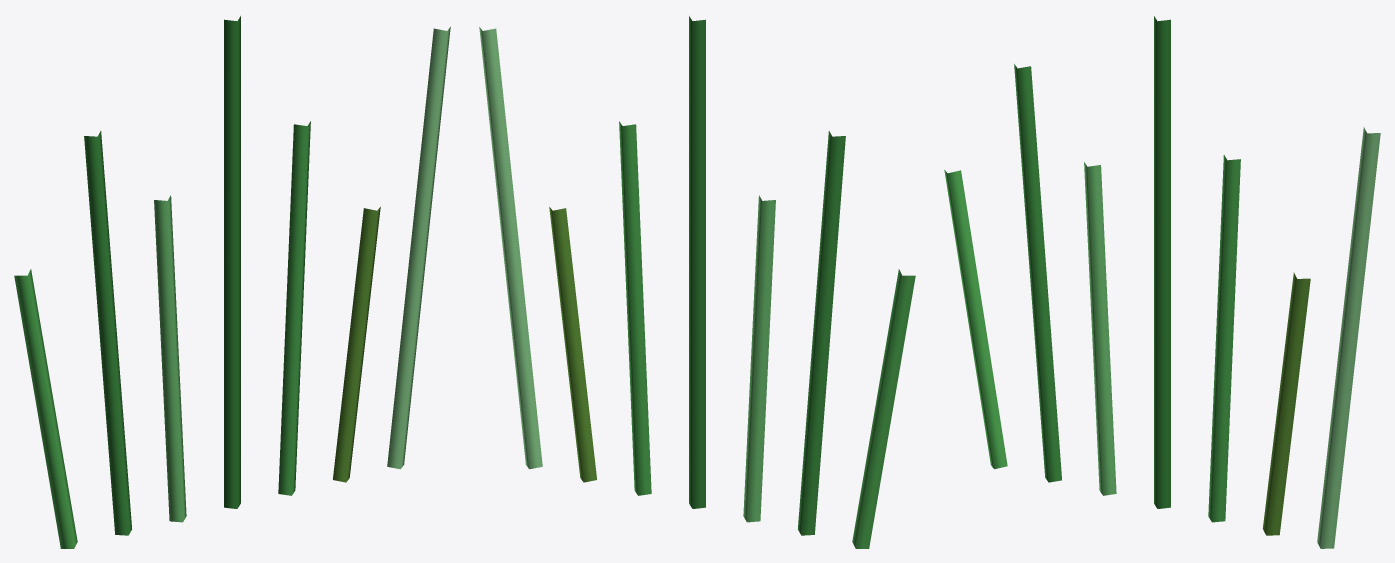
The model's file is rumput.glb.
The picture shows the model from 3 angles, left to right: view 1: azimuth 30°, elevation 25°; view 2: azimuth 150°, elevation 25°; view 3: azimuth 330°, elevation 25°; orthographic projection.
Size of the model in its own units: 1.12 by 1.2 by 0.044.
